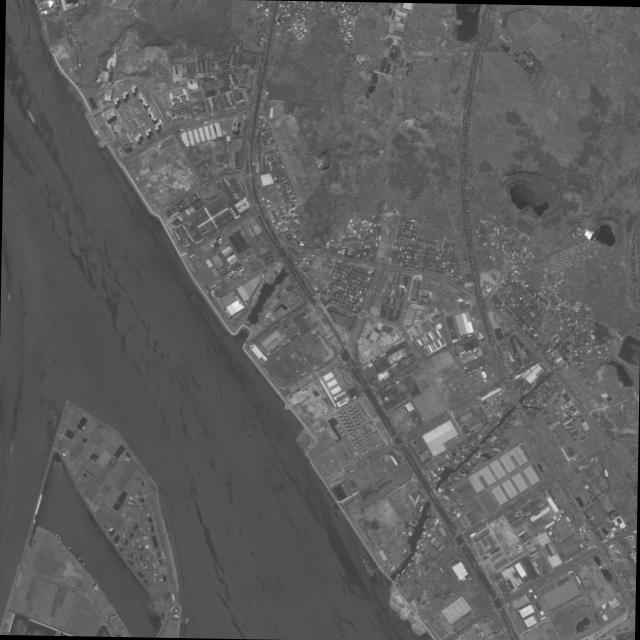ship: (25, 106, 37, 123), (8, 437, 14, 455), (367, 570, 375, 577), (7, 289, 11, 300), (362, 559, 366, 562), (362, 557, 364, 559), (360, 555, 362, 557)
